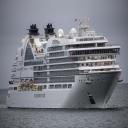cruises: (7, 18, 125, 113)
